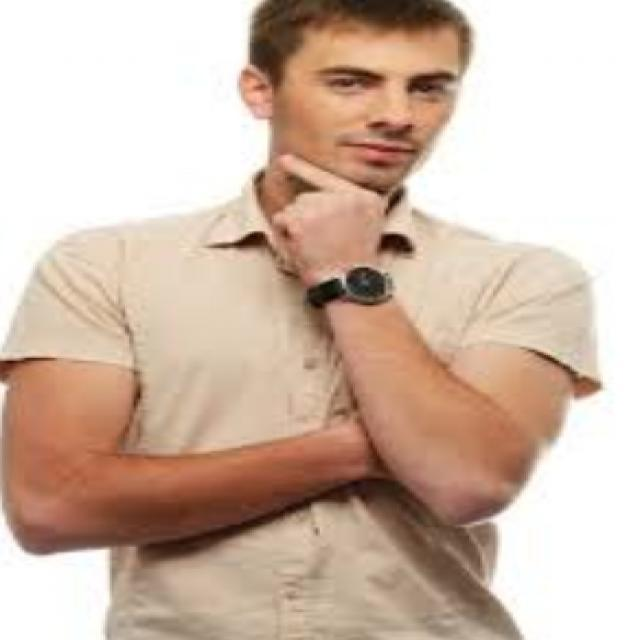Watch: (307, 264, 403, 314)
